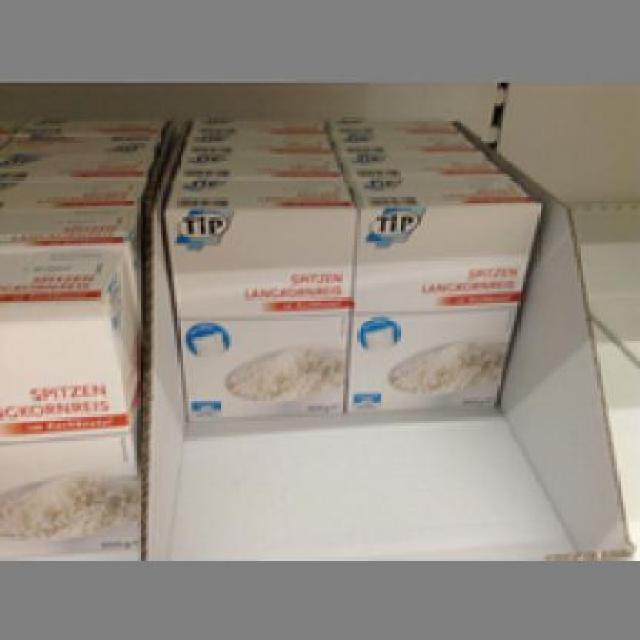Rice: (348, 172, 544, 414), (163, 180, 354, 417), (0, 248, 143, 552)
